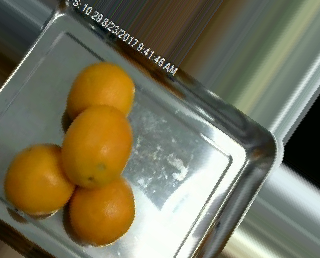Orange: (61, 103, 134, 188), (5, 141, 75, 214), (69, 173, 137, 246), (65, 62, 137, 122)
